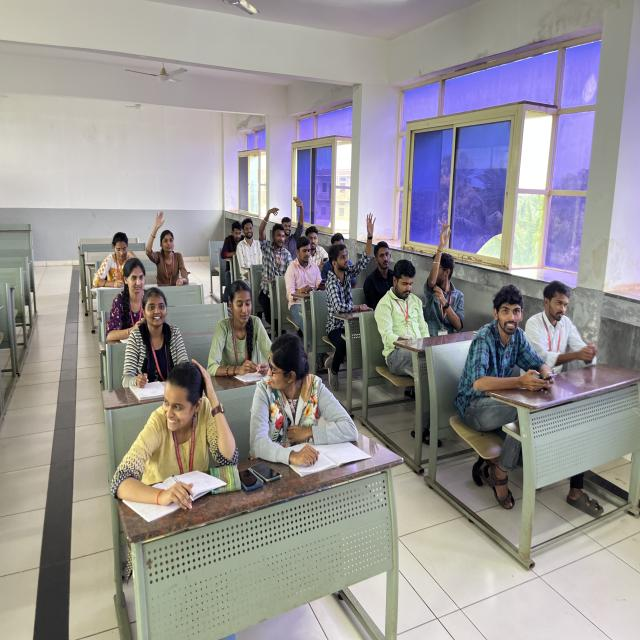Hand Rising: (329, 207, 379, 324), (422, 211, 467, 341), (144, 205, 192, 292), (256, 202, 290, 281), (284, 189, 308, 257)
Reading: (89, 228, 143, 292)
Using Phone: (456, 282, 560, 418), (377, 254, 434, 371)
Writing: (116, 285, 200, 403)
